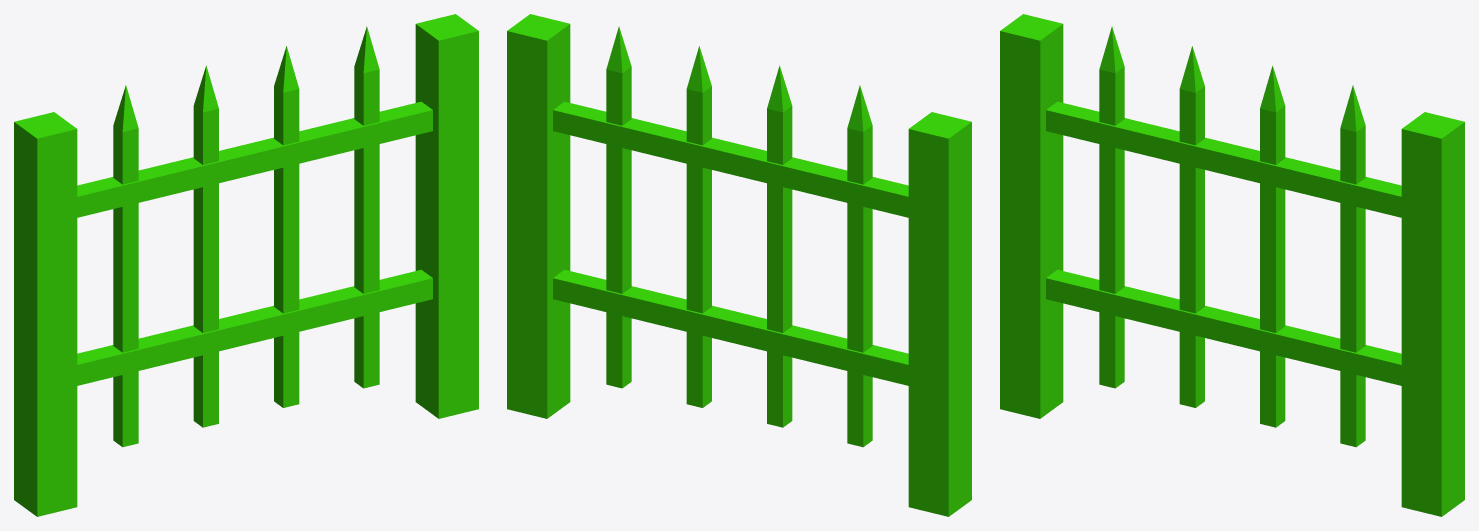
File: fence1_01.fbx
3 renders of one model, left to right at view 1: azimuth 30°, elevation 25°; view 2: azimuth 150°, elevation 25°; view 3: azimuth 330°, elevation 25°, orthographic.
Visible parts, largest first — view 1: fence1_01; view 2: fence1_01; view 3: fence1_01.
Part boxes in pixels (x1,y1,x2,y2): fence1_01: [14, 14, 478, 516]; fence1_01: [507, 14, 971, 516]; fence1_01: [1000, 14, 1464, 516].
Size of the model in its own units: 110 by 95 by 10.
